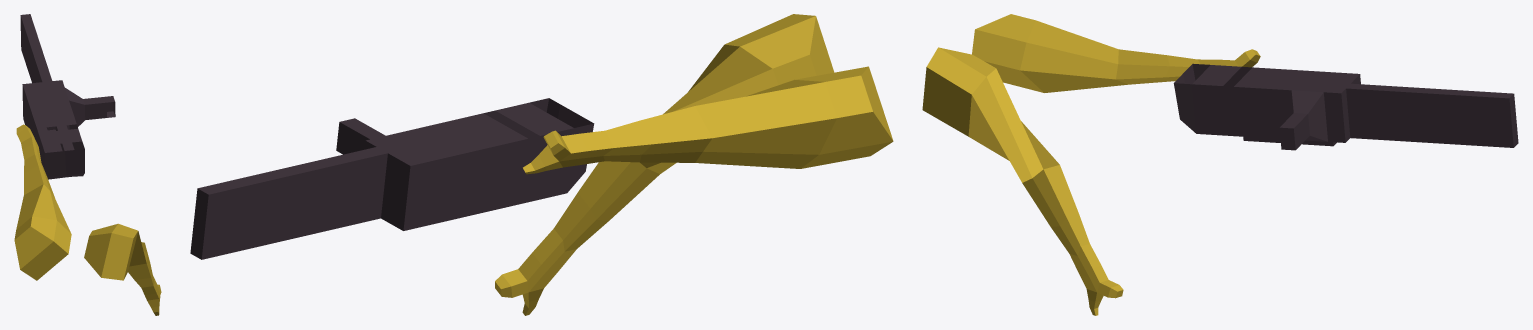
File: arme_000114.obj
3 renders of one model, left to right at view 1: azimuth 30°, elevation 25°; view 2: azimuth 150°, elevation 25°; view 3: azimuth 270°, elevation 25°, orthographic. The views are drawn at different scales.
Parts seen in each view (by area): view 1: Cube.048_Cube.024, Cube.046_Cube.010; view 2: Cube.048_Cube.024, Cube.046_Cube.010; view 3: Cube.048_Cube.024, Cube.046_Cube.010.
Boxes of the visible parts, x1,y1,x2,y2 form: Cube.048_Cube.024: (14, 124, 161, 315); Cube.046_Cube.010: (20, 14, 115, 179); Cube.048_Cube.024: (495, 14, 893, 315); Cube.046_Cube.010: (190, 98, 594, 259); Cube.048_Cube.024: (922, 14, 1260, 315); Cube.046_Cube.010: (1173, 63, 1518, 150).
Size of the model in its own units: 1293 by 1077 by 2462.
